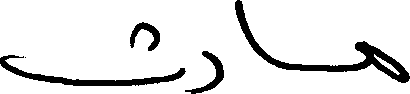ا: (232, 0, 270, 64)
ث: (0, 20, 185, 93)
ر: (183, 48, 224, 91)
م: (364, 38, 408, 82)
